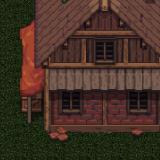Obstacle: (2, 0, 160, 160)
